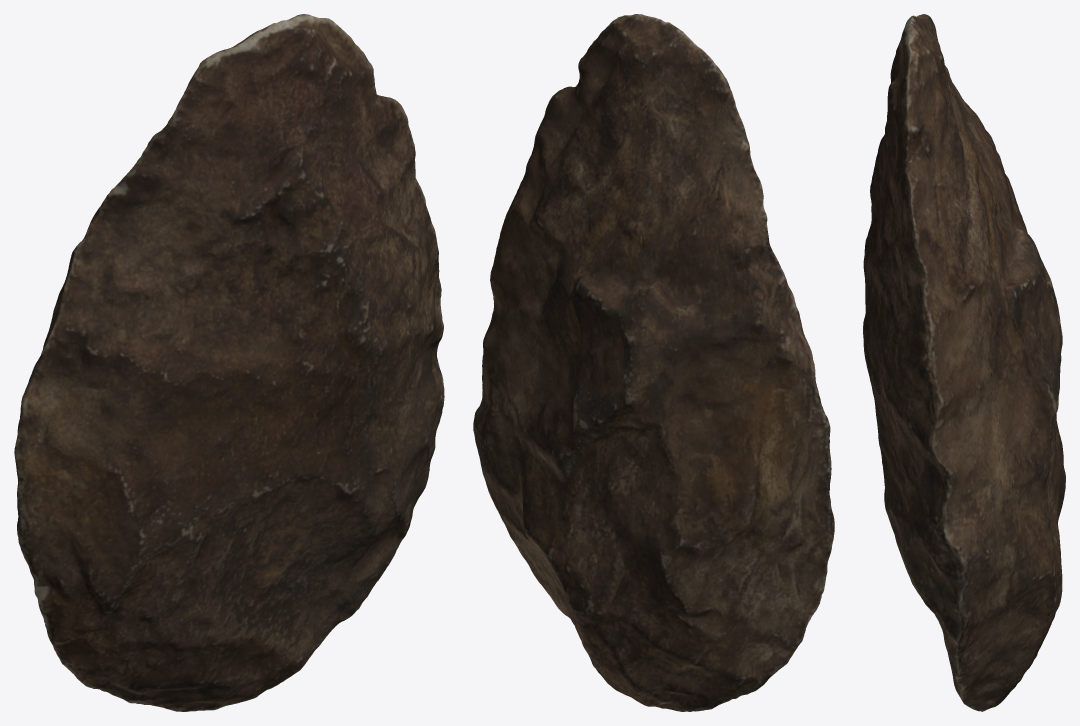
3 renders of one model, left to right at view 1: azimuth 30°, elevation 25°; view 2: azimuth 150°, elevation 25°; view 3: azimuth 270°, elevation 25°, orthographic. The views are drawn at different scales.
Visible parts, largest first — view 1: Node; view 2: Node; view 3: Node.
Part boxes in pixels (x1,y1,x2,y2): Node: (14,14,444,711); Node: (473,14,834,711); Node: (863,14,1065,711).
Size of the model in its own units: 0.9332 by 1.56 by 0.4143.
1 material, 1 textured.
